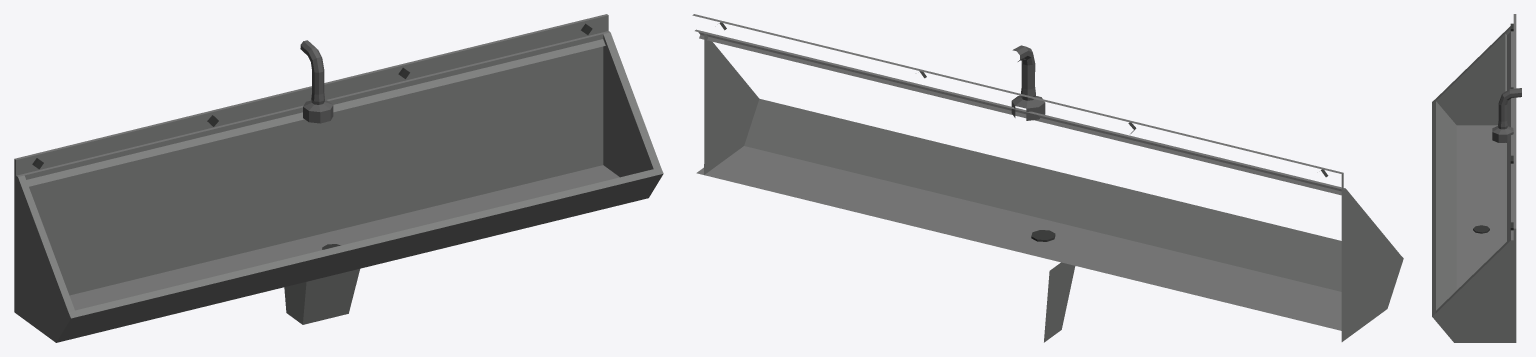
File: TroughUrinal.glb
3 renders of one model, left to right at view 1: azimuth 30°, elevation 25°; view 2: azimuth 150°, elevation 25°; view 3: azimuth 270°, elevation 25°, orthographic. The views are drawn at different scales.
Visible parts, largest first — view 1: TroughUrinal; view 2: TroughUrinal; view 3: TroughUrinal.
Part boxes in pixels (left/top/right/bottom): TroughUrinal: left=14, top=14, right=663, bottom=342; TroughUrinal: left=692, top=14, right=1403, bottom=342; TroughUrinal: left=1432, top=14, right=1521, bottom=342.
Bounding box in the file's own units: 2.09 × 0.8886 × 0.3691.
Materials: 1 (1 with a texture image).
